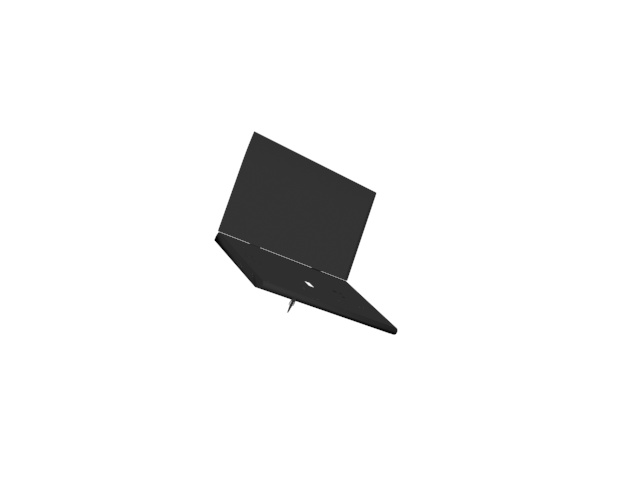laptop_computer: (209, 129, 400, 336)
